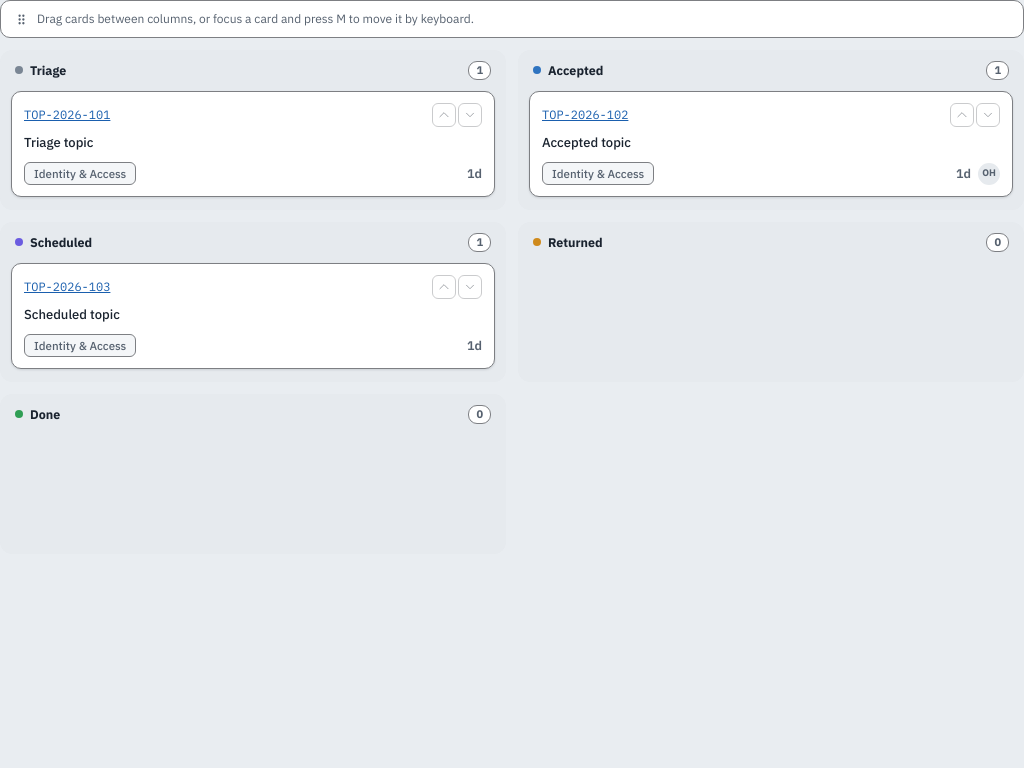
Test: Kanban (P5b) › surfaces a failed Accepted transition instead of failing silently
Press M in the element "TOP-2026-101 Triage topic Identity & Access 1d", box [11,91,495,197]
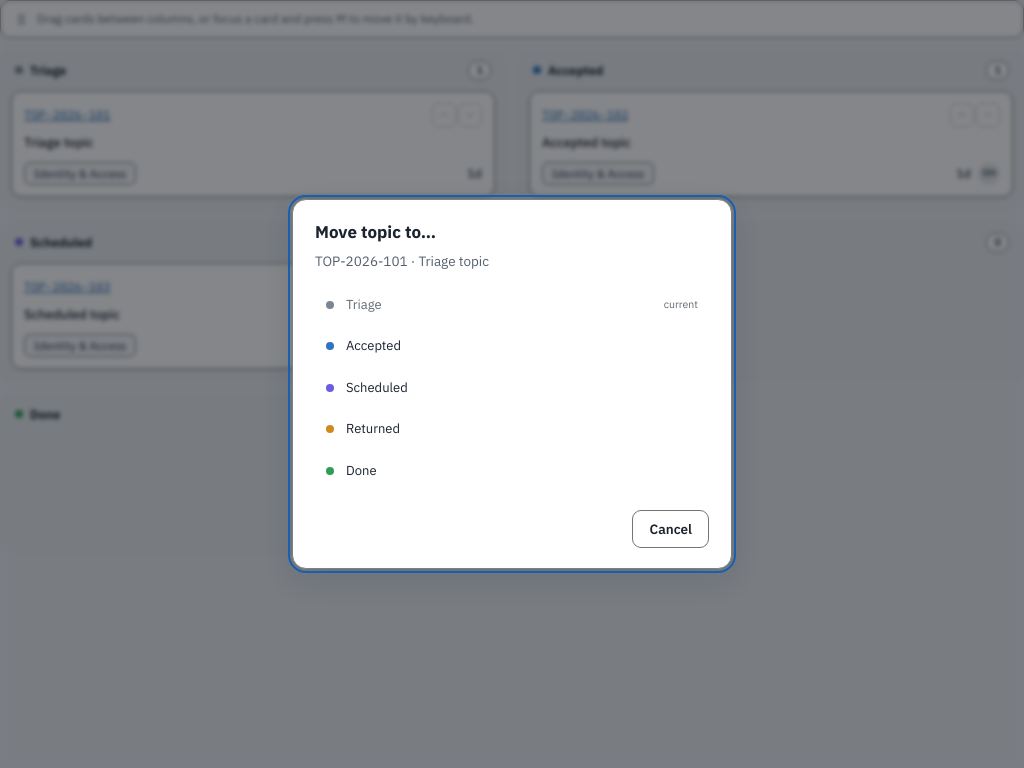
Click the button "Accepted" at (374, 346), box [315,326,709,366]
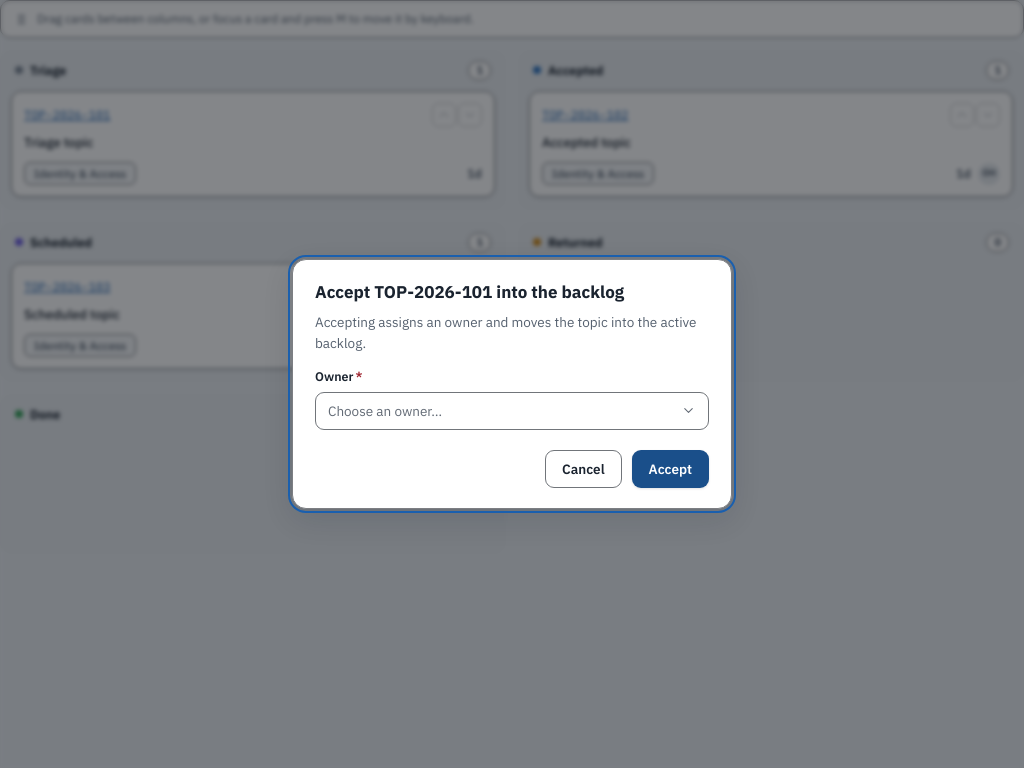
Click the button "Choose an owner…" at (385, 411), box [315,392,709,430]
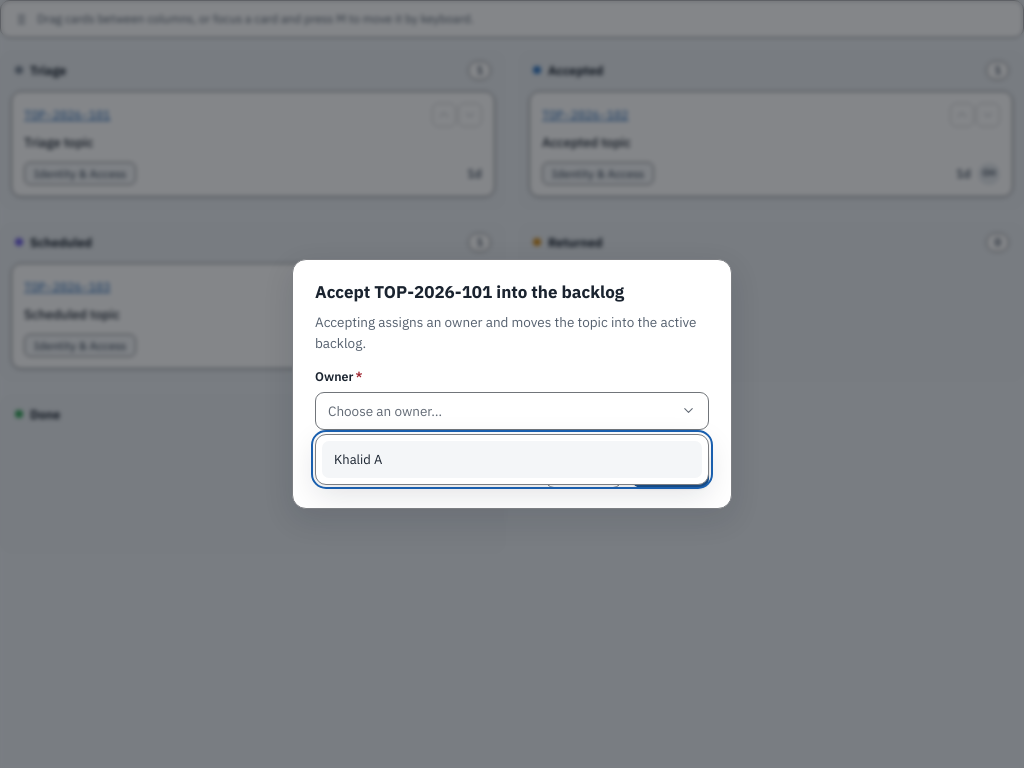
Click the option "Khalid A" at (358, 459), box [322,441,702,478]
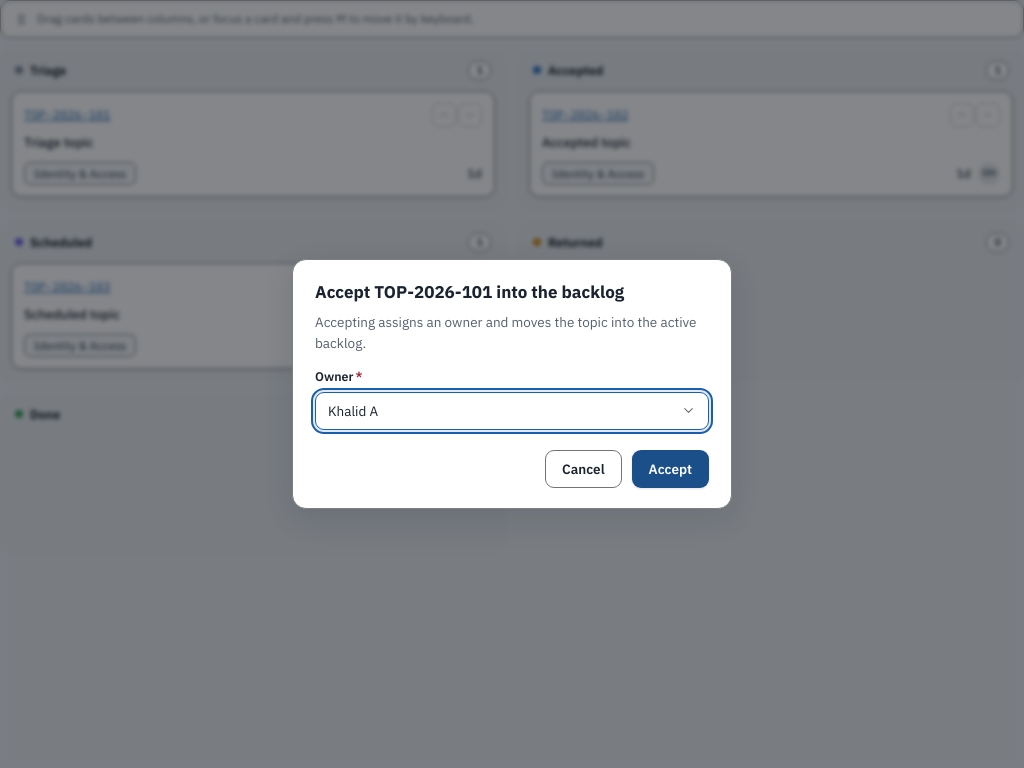
Click the button "Accept" at (670, 469), box [632,450,709,488]
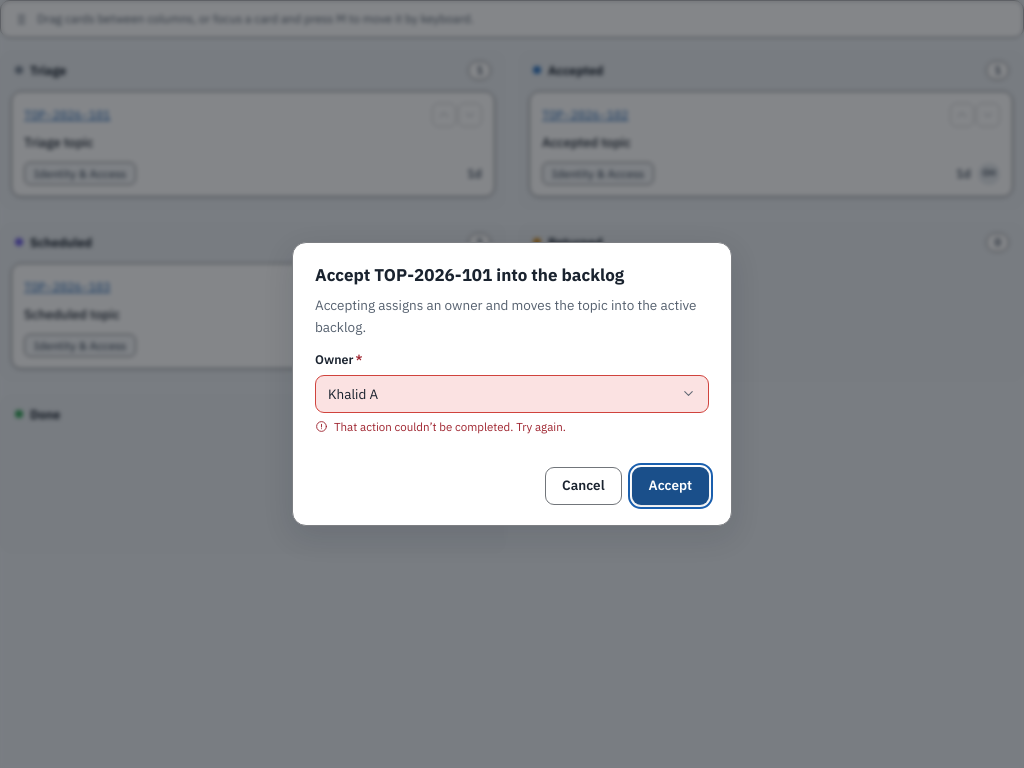
expect the message "That action couldn’t be completed. Try again." is shown: met, box [315,419,566,434]
